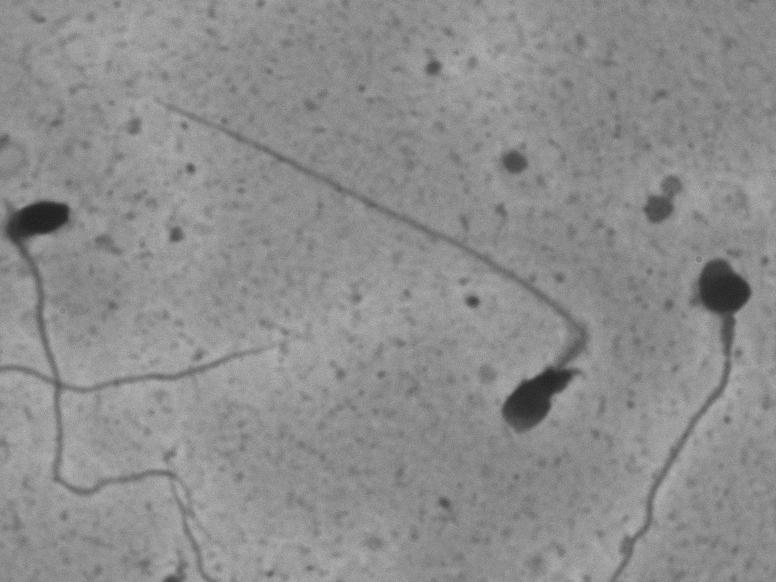Abnormal: (138, 72, 605, 443), (5, 180, 208, 533), (604, 243, 767, 565)
